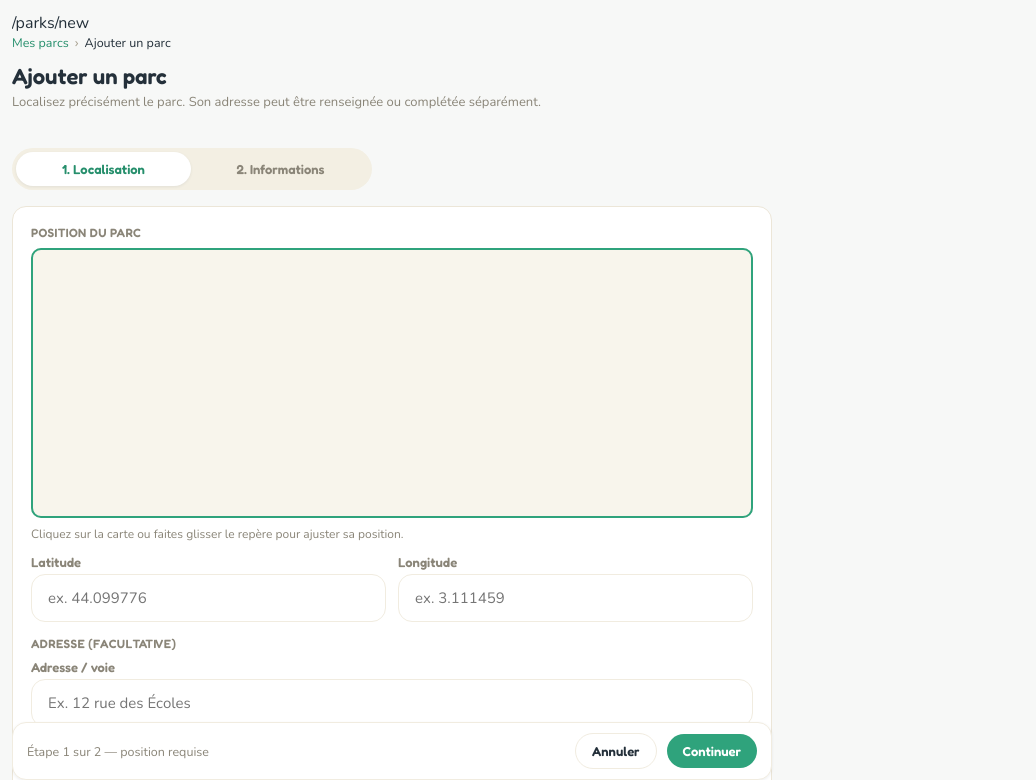
Test: ParkNew — /parks/new (Lot 3C.4) › cannot continue to step 2 without valid coordinates
Click the button "Continuer": (712, 751) [667, 734, 757, 768]
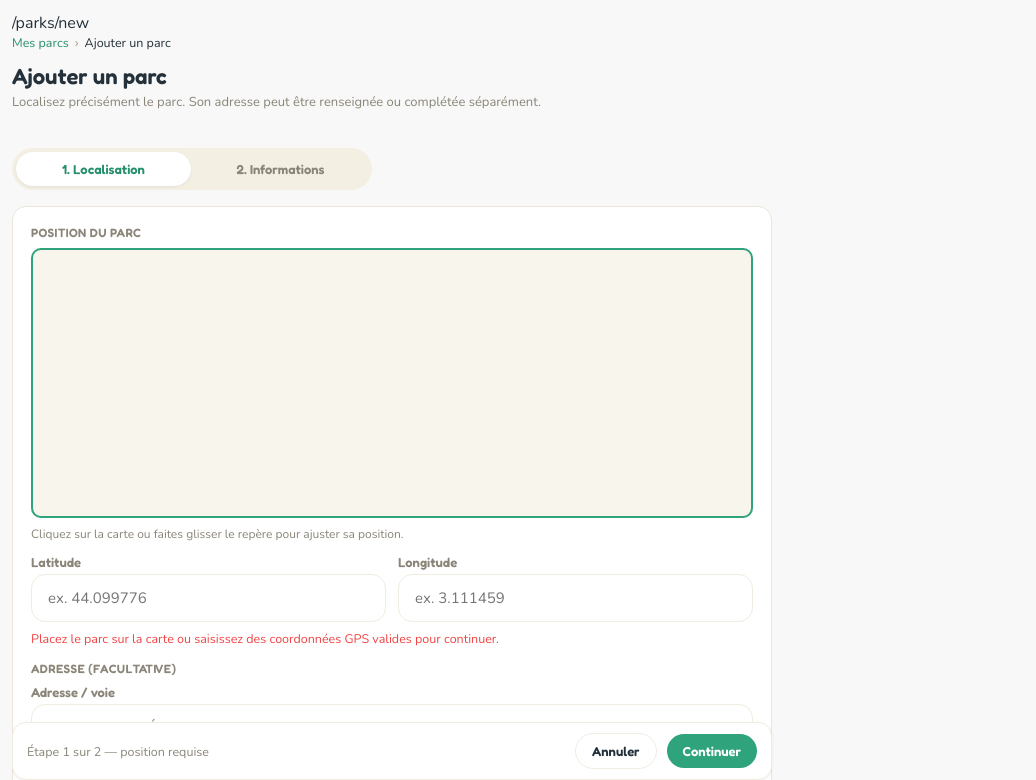
Expected: the field labelled "Adresse / voie" is shown, [31, 704, 753, 752]
Expected: the text "Placez le parc sur la carte ou saisissez des coordonnées GPS valides" is shown, [31, 630, 499, 647]
